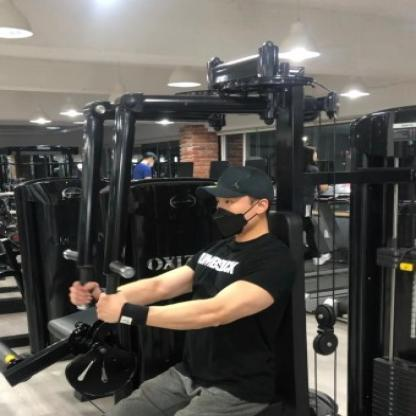chest fly machine: (47, 42, 416, 416)
